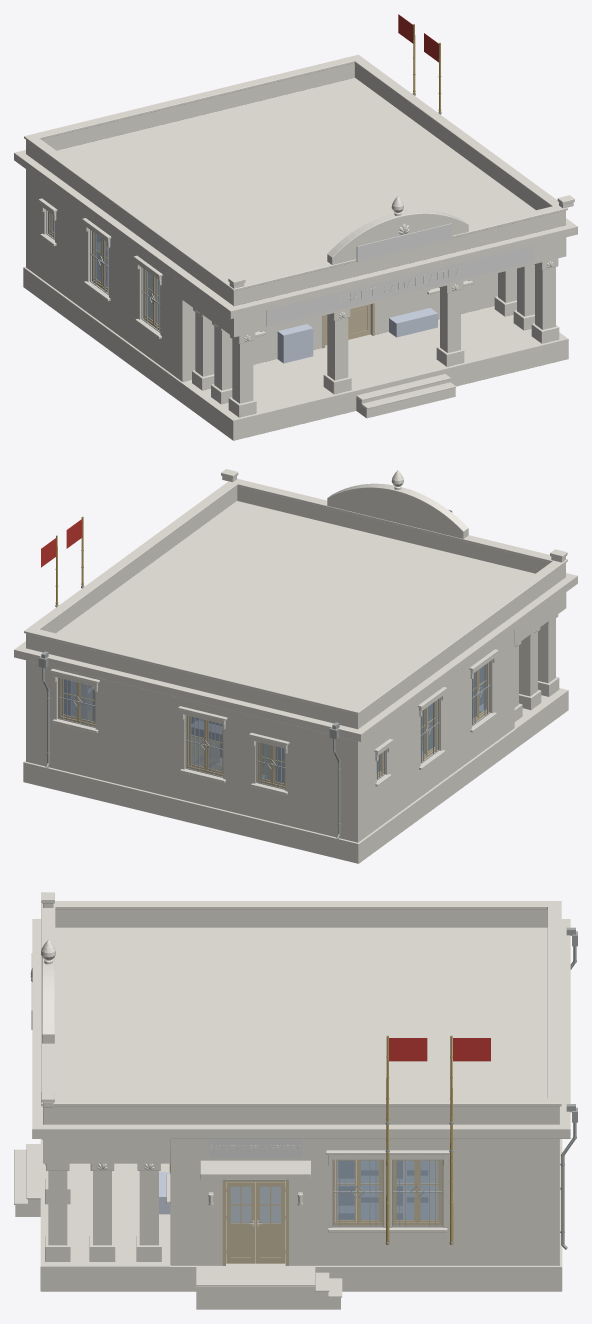
Rendered from cite_moulin_H05.glb.
The picture shows the model from 3 angles, top to bottom: view 1: azimuth 30°, elevation 25°; view 2: azimuth 150°, elevation 25°; view 3: azimuth 270°, elevation 25°; orthographic projection. The views are drawn at different scales.
Visible parts, largest first — view 1: Shell_concrete_cast, Shell_new_plaster_lavender, Shell_plaster_cream_warm, Shell_limestone_flag, sign_front_baitka, Arch_plaster_cream_warm, poster_lotus_pediment, Arch_concrete_cast, Arch_limestone_flag, Arch_new_plaster_lavender, Ph_hall_shoe_cabinet_01, Arch_steel_painted_worn (+6 smaller); view 2: Shell_new_plaster_lavender, Shell_concrete_cast, Arch_plaster_cream_warm, Arch_glass, Shell_plaster_cream_warm, Arch_wood_mahogany_varnished, Arch_steel_painted_worn, Arch_new_plaster_lavender, galvanized_steel, new_flag_cloth_red, Shell_paint_clean; view 3: Shell_concrete_cast, Shell_new_plaster_lavender, Shell_plaster_cream_warm, Shell_limestone_flag, Arch_limestone_flag, Arch_glass, Arch_new_plaster_lavender, Arch_wood_mahogany_varnished, Arch_concrete_cast, DoorLeaf_02a_L_in, DoorLeaf_02b_R_in, Shell_floor_tiles (+7 smaller).
Part boxes in pixels (x1,y1,x2,y2): Shell_concrete_cast: (14, 78, 577, 440); Shell_new_plaster_lavender: (14, 54, 577, 417); Shell_plaster_cream_warm: (182, 237, 566, 403); Shell_limestone_flag: (181, 306, 567, 420); sign_front_baitka: (266, 245, 533, 326); Arch_plaster_cream_warm: (195, 195, 574, 341); poster_lotus_pediment: (356, 223, 452, 262); Arch_concrete_cast: (356, 379, 455, 418); Arch_limestone_flag: (356, 374, 455, 408); Arch_new_plaster_lavender: (38, 198, 473, 338); Ph_hall_shoe_cabinet_01: (277, 324, 313, 363); Arch_steel_painted_worn: (46, 93, 441, 332); Shell_new_plaster_lavender: (14, 478, 577, 842); Shell_concrete_cast: (14, 501, 577, 863); Arch_plaster_cream_warm: (221, 469, 567, 646); Arch_glass: (63, 664, 485, 783); Shell_plaster_cream_warm: (514, 592, 566, 707); Arch_wood_mahogany_varnished: (59, 662, 488, 788); Arch_steel_painted_worn: (46, 586, 490, 825); Arch_new_plaster_lavender: (50, 649, 498, 794); galvanized_steel: (38, 651, 340, 838); new_flag_cloth_red: (41, 519, 82, 567); Shell_paint_clean: (88, 667, 483, 781); Shell_concrete_cast: (32, 919, 570, 1291); Shell_new_plaster_lavender: (32, 901, 570, 1265); Shell_plaster_cream_warm: (43, 1139, 170, 1245); Shell_limestone_flag: (40, 1139, 170, 1266); Arch_limestone_flag: (14, 1144, 342, 1297); Arch_glass: (337, 1160, 438, 1219); Arch_new_plaster_lavender: (166, 1150, 561, 1232); Arch_wood_mahogany_varnished: (169, 1159, 442, 1265); Arch_concrete_cast: (15, 1199, 340, 1309); DoorLeaf_02a_L_in: (256, 1182, 285, 1263); DoorLeaf_02b_R_in: (226, 1182, 255, 1263); Shell_floor_tiles: (226, 1160, 437, 1259).
Bounding box in the file's own units: 12.5 × 6.8 × 13.25.
